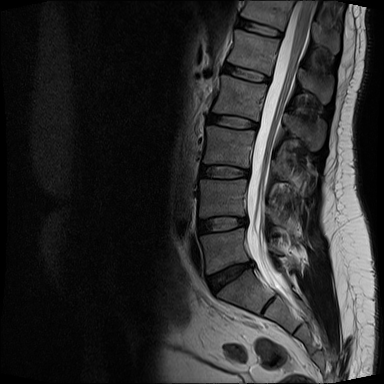Lumbar Disc Bulge (LDB): (202, 256, 257, 299), (194, 212, 253, 238)
Normal IVD: (233, 14, 286, 41), (219, 59, 273, 85), (204, 108, 261, 132), (196, 162, 252, 181)
Spinal Stenosis (SS): (238, 212, 254, 231), (247, 255, 259, 271)
